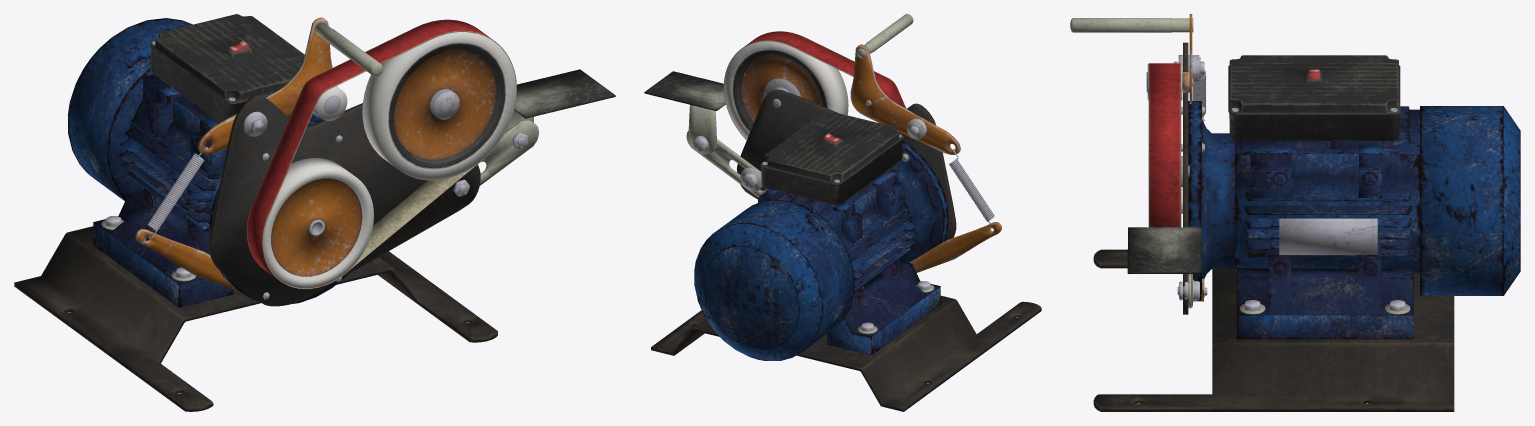
The model's file is grinder_machine_middlepoly (1).glb.
3 renders of one model, left to right at view 1: azimuth 30°, elevation 25°; view 2: azimuth 150°, elevation 25°; view 3: azimuth 270°, elevation 25°, orthographic. The views are drawn at different scales.
Visible parts, largest first — view 1: GrMachLow; view 2: GrMachLow; view 3: GrMachLow.
Part boxes in pixels (<box>): GrMachLow: <box>14,14,615,411</box>; GrMachLow: <box>644,14,1041,411</box>; GrMachLow: <box>1070,14,1520,411</box>.
Bounding box in the file's own units: 2 × 1.37 × 1.7.
1 material, 1 textured.
